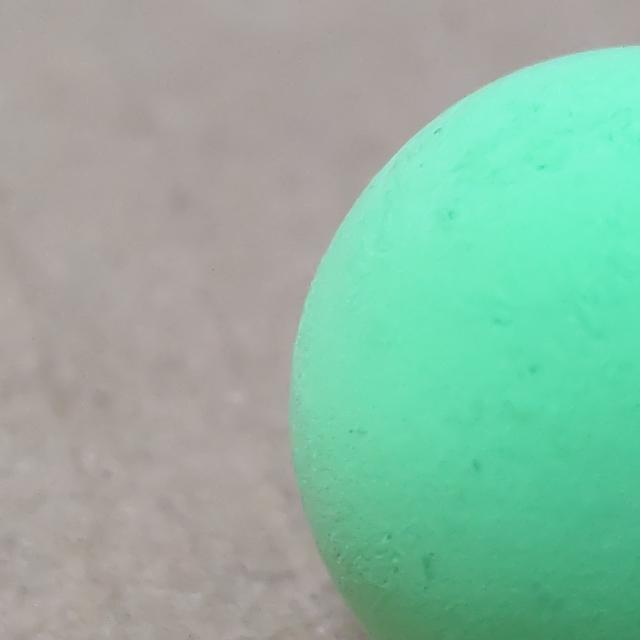bad: (288, 49, 640, 640)
